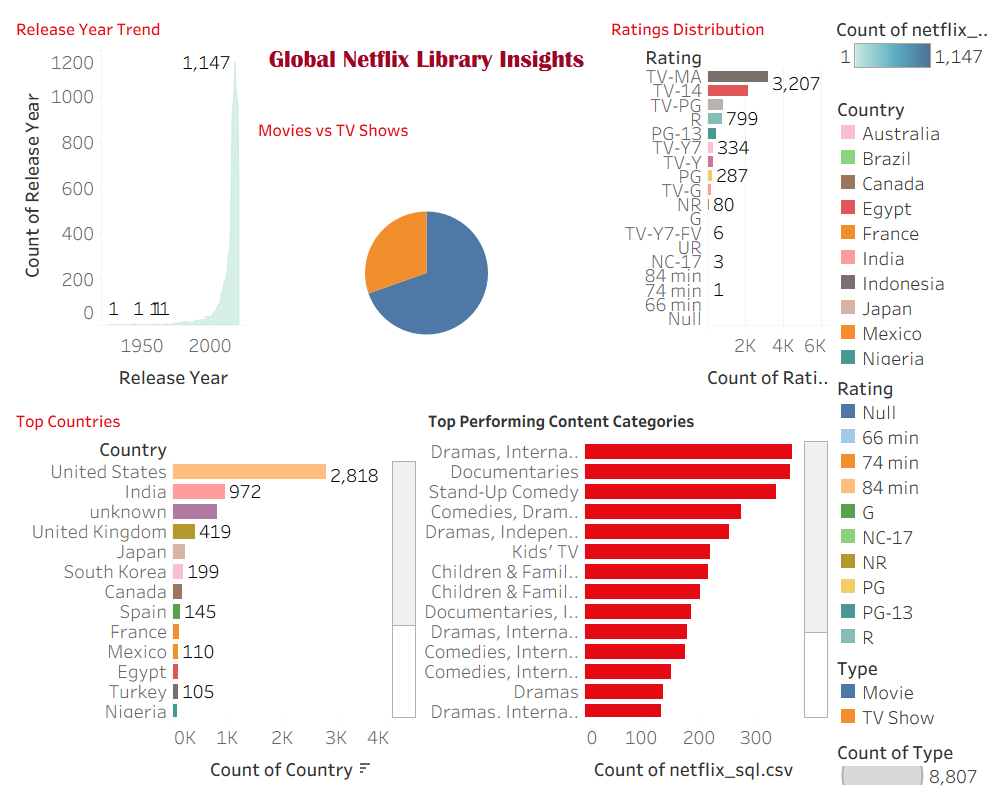

The dashboard page shown, as its layout file describes it:
{"tool":"tableau","page":{"name":"Dashboard 1","canvas":[1000,800],"ordinal":0},"visuals":[{"type":"worksheet","title":"Release Year Trend","mark":"Area","rows":["release_year"],"cols":["release_year"],"box":[8,8,242,392]},{"type":"text","box":[250,8,353,101]},{"type":"worksheet","title":"Ratings Distribution","mark":"Automatic","rows":["rating"],"cols":["rating"],"box":[603,8,229,392]},{"type":"legend","title":"Release Year Trend","param":"[federated.0lkbt031bo2vkp13efibl00yths6].[__tableau_internal_object_id__].[cnt:n","box":[832,8,160,81]},{"type":"legend","title":"Top Countries","param":"[federated.0lkbt031bo2vkp13efibl00yths6].[none:country:nk]","box":[832,89,160,280]},{"type":"worksheet","title":"Movies vs TV Shows","mark":"Pie","box":[250,109,353,291]},{"type":"legend","title":"Ratings Distribution","param":"[federated.0lkbt031bo2vkp13efibl00yths6].[none:rating:nk]","box":[832,369,160,280]},{"type":"worksheet","title":"Top Countries","mark":"Automatic","rows":["country"],"cols":["country"],"box":[8,400,412,392]},{"type":"worksheet","title":"Top Performing Content Categories","mark":"Automatic","rows":["listed_in"],"cols":["netflix_sql.csv_40B336B011114FF98084B9B865A939FA"],"box":[420,400,412,392]},{"type":"legend","title":"Movies vs TV Shows","param":"[federated.0lkbt031bo2vkp13efibl00yths6].[none:type:nk]","box":[832,649,160,84]},{"type":"legend","title":"Movies vs TV Shows","param":"[federated.0lkbt031bo2vkp13efibl00yths6].[cnt:type:qk]","box":[832,733,160,59]}]}

Visuals, with their boxes in screenshot pixels (x1, y1, x2, y2), scaled from the page's 1000x800 canvas onto the 1000x800 screenshot:
"Release Year Trend" worksheet (Area marks): <box>8,8,250,400</box>
text: <box>250,8,603,109</box>
"Ratings Distribution" worksheet: <box>603,8,832,400</box>
"Release Year Trend" legend: <box>832,8,992,89</box>
"Top Countries" legend: <box>832,89,992,369</box>
"Movies vs TV Shows" worksheet (Pie marks): <box>250,109,603,400</box>
"Ratings Distribution" legend: <box>832,369,992,649</box>
"Top Countries" worksheet: <box>8,400,420,792</box>
"Top Performing Content Categories" worksheet: <box>420,400,832,792</box>
"Movies vs TV Shows" legend: <box>832,649,992,733</box>
"Movies vs TV Shows" legend: <box>832,733,992,792</box>
